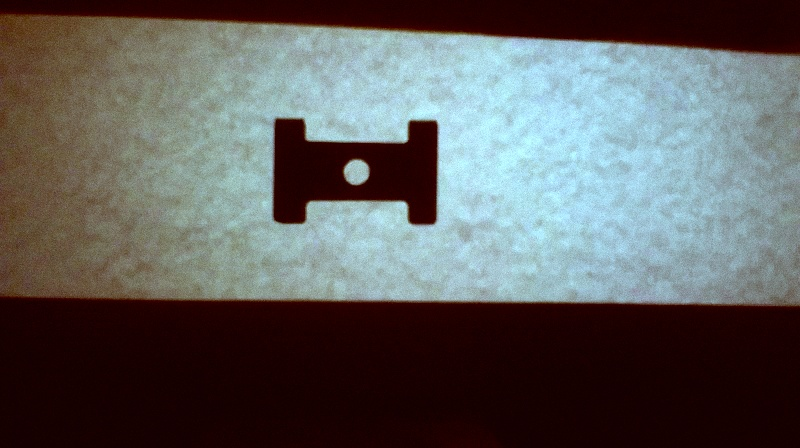O002: (270, 117, 443, 227)
